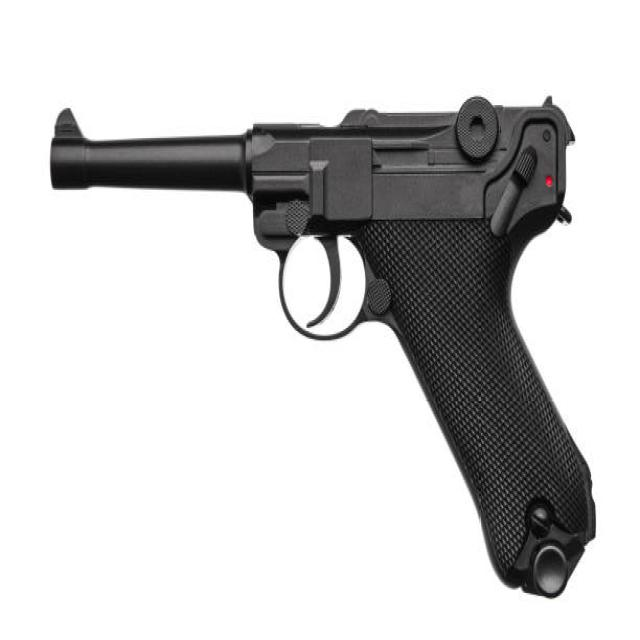pistol: (49, 88, 615, 614)
